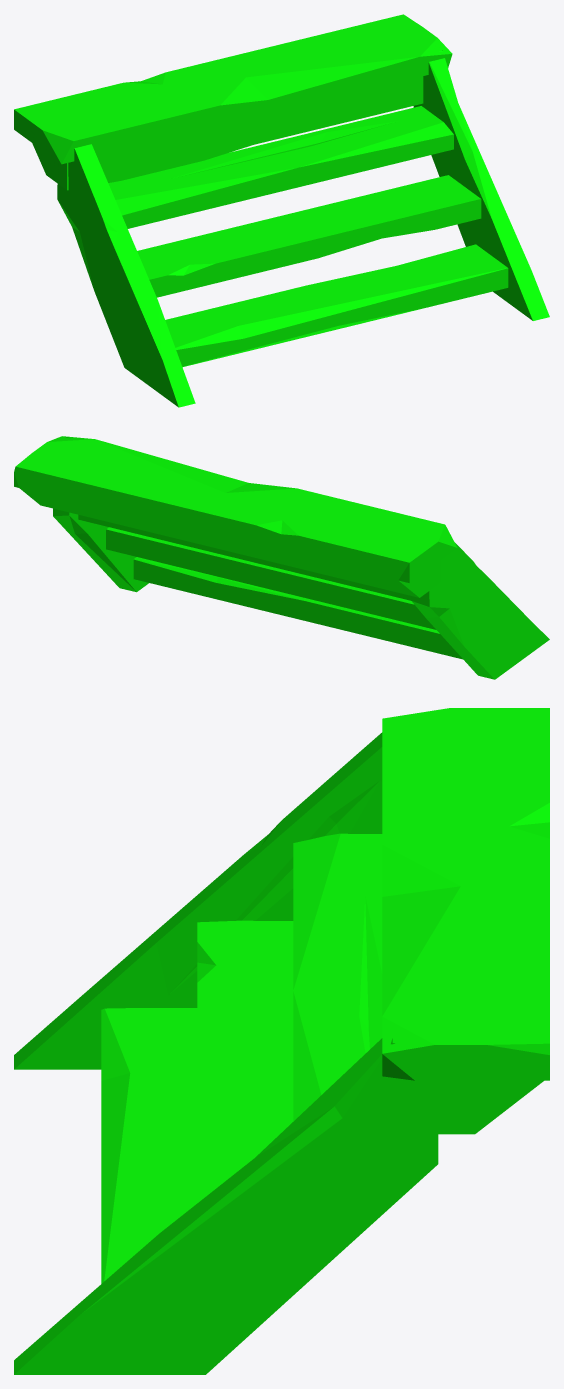
File: SM_Stairs_Wood_Regular_Top_2m_Fantasy.fbx
The picture shows the model from 3 angles, top to bottom: view 1: azimuth 30°, elevation 25°; view 2: azimuth 150°, elevation 25°; view 3: azimuth 270°, elevation 25°; orthographic projection. The views are drawn at different scales.
Visible parts, largest first — view 1: stairs-wood-regular-top-2m-fantasy; view 2: stairs-wood-regular-top-2m-fantasy; view 3: stairs-wood-regular-top-2m-fantasy.
Boxes of the visible parts, <box> form: stairs-wood-regular-top-2m-fantasy: <box>14,14,549,407</box>; stairs-wood-regular-top-2m-fantasy: <box>14,436,549,679</box>; stairs-wood-regular-top-2m-fantasy: <box>14,708,549,1374</box>.
Size of the model in its own units: 2.08 by 0.9654 by 1.4.
